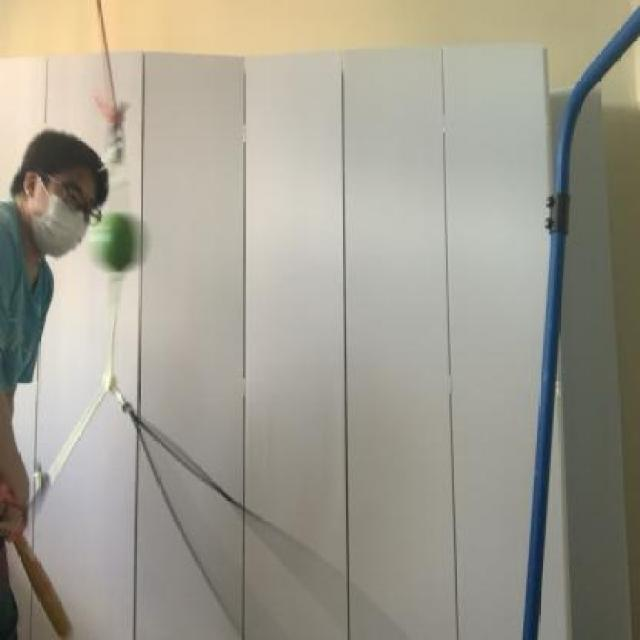baseball: (87, 196, 155, 296)
